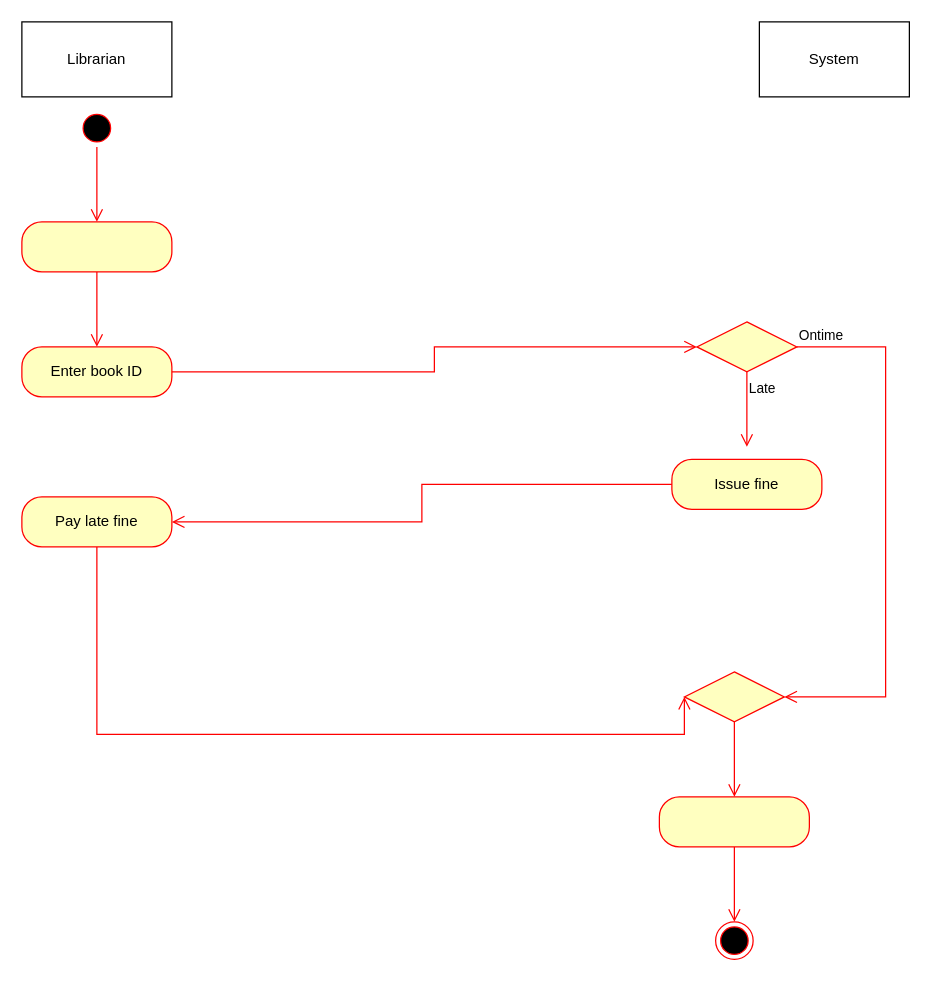
Some shapes in this 931 by 981 pixel diagram are drawn without their labels. Each missing label, with the centre of its shape:
"Enter Member ID" belongs at (x=96, y=246).
"Issue receipt" belongs at (x=733, y=821).
